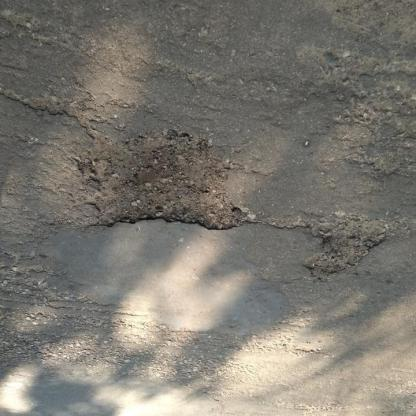pothole: (72, 125, 241, 237), (302, 211, 390, 280)
